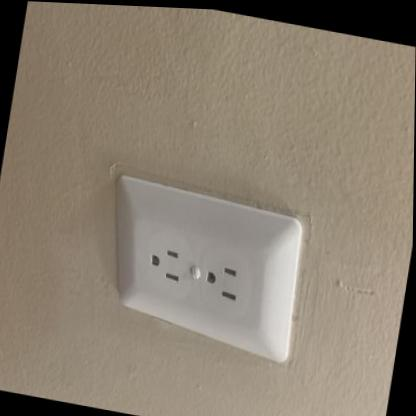OUTLET: (88, 167, 314, 366)
